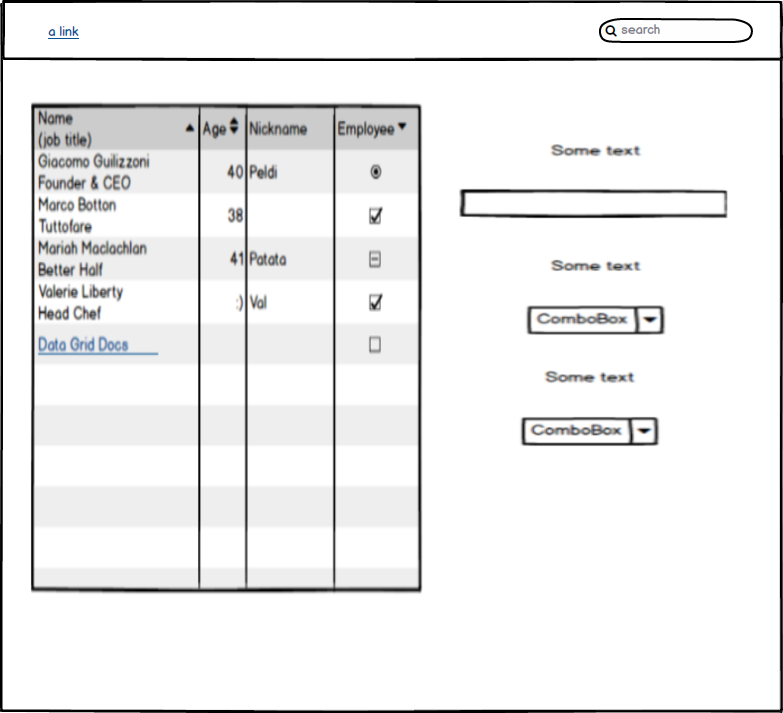input: (455, 182, 740, 225)
label: (543, 137, 649, 163), (541, 364, 641, 388), (546, 255, 651, 276)
navlink: (37, 22, 87, 43)
search: (593, 12, 760, 49)
select_box: (519, 410, 665, 453), (518, 300, 669, 337)
table: (28, 97, 427, 600)
